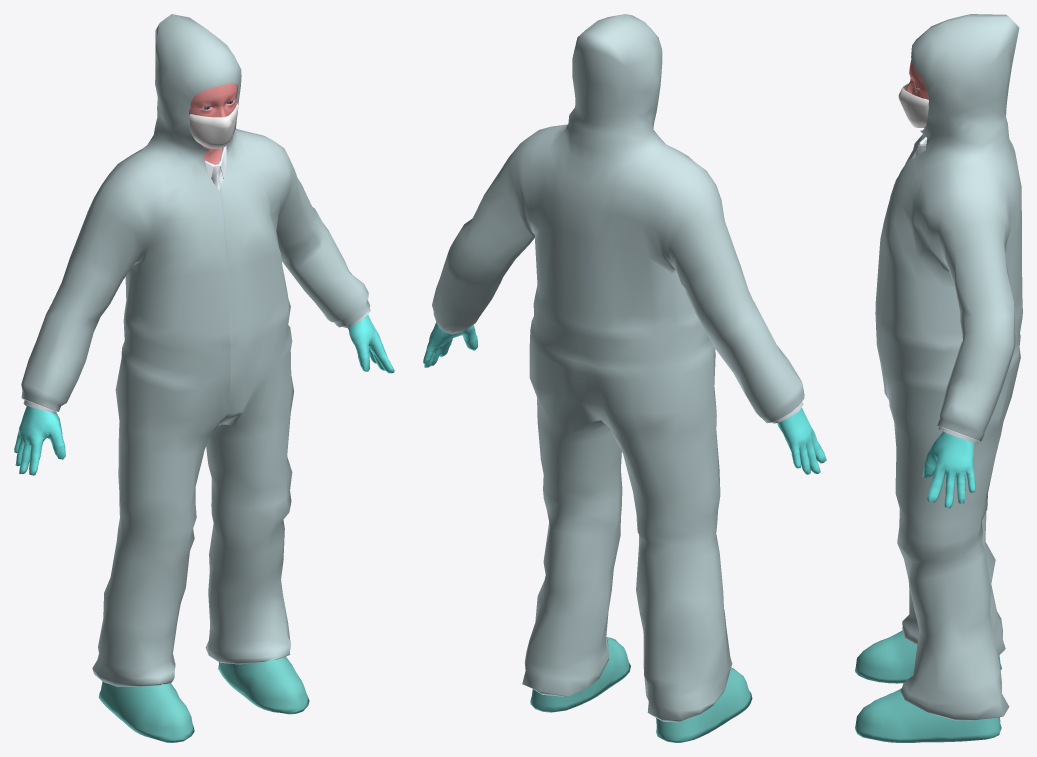
Rendered from BunnySuit.glb.
3 views of the same model, side by side, from view 1: azimuth 30°, elevation 25°; view 2: azimuth 150°, elevation 25°; view 3: azimuth 270°, elevation 25° (orthographic). The views are drawn at different scales.
Visible parts, largest first — view 1: bunnySuitFull; view 2: bunnySuitFull; view 3: bunnySuitFull.
Part boxes in pixels (x1=…): bunnySuitFull: x1=14, y1=14, x2=394, y2=742; bunnySuitFull: x1=423, y1=14, x2=826, y2=742; bunnySuitFull: x1=855, y1=14, x2=1022, y2=742.
Bounding box in the file's own units: 1.06 × 1.8 × 0.3979.
7 materials, 1 textured.
